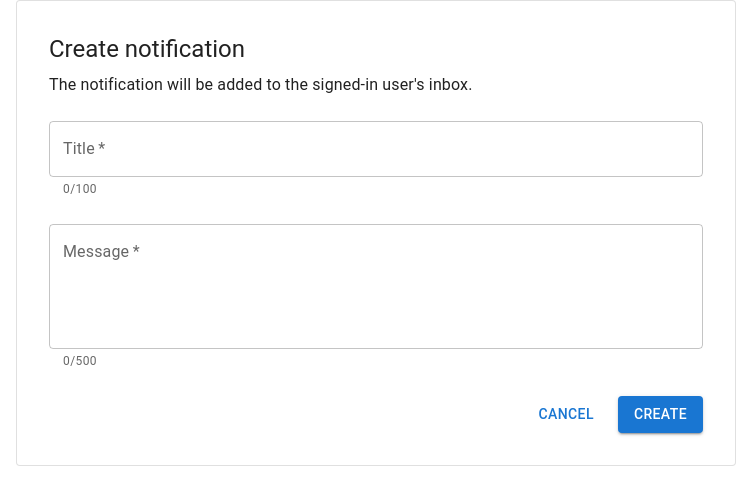
Test: maps server validation errors onto fields
Type "x" into the field labelled "Title *" at (376, 149), box x1=49 y1=121 x2=703 y2=177
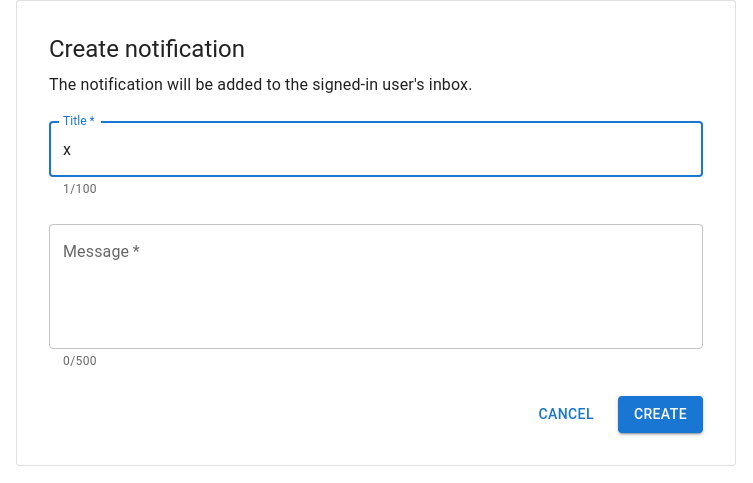
Type "y" into the text box labelled "Message *" at (376, 287), box x1=63 y1=241 x2=689 y2=333
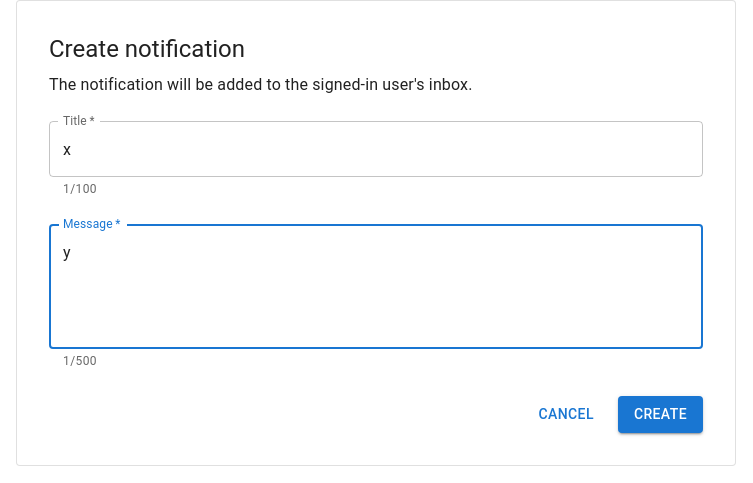
Click the button "Create" at (660, 414), box x1=618 y1=396 x2=703 y2=433
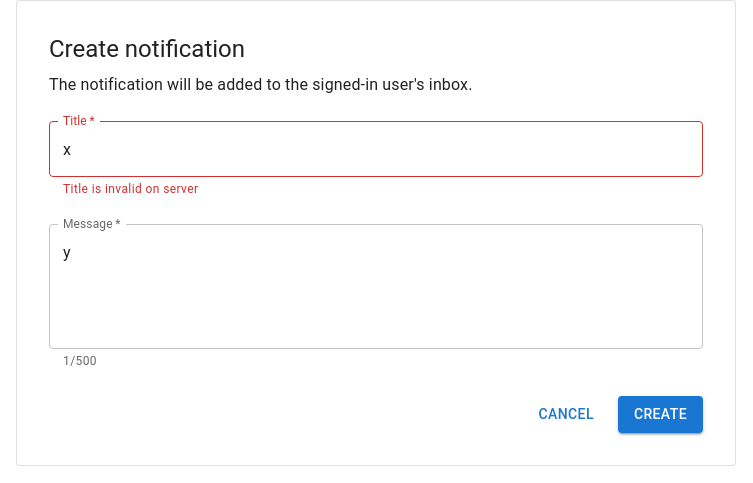
Now the text "Title is invalid on server" is shown, box x1=63 y1=182 x2=198 y2=196
